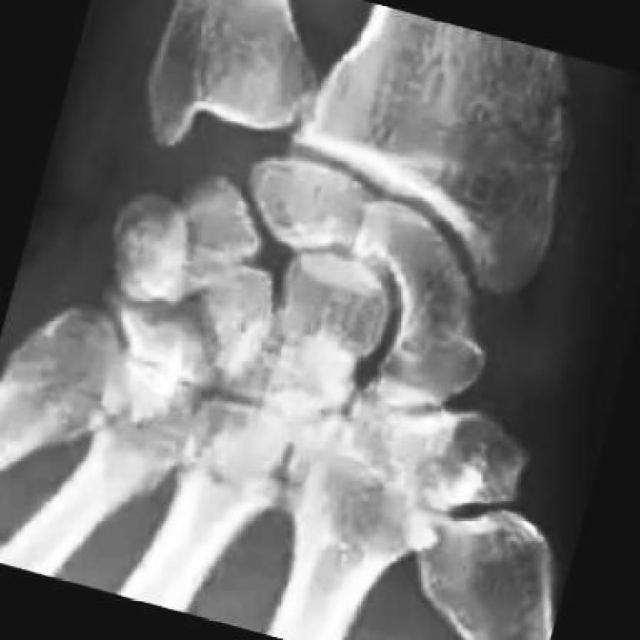Fracture: (69, 285, 203, 447)
